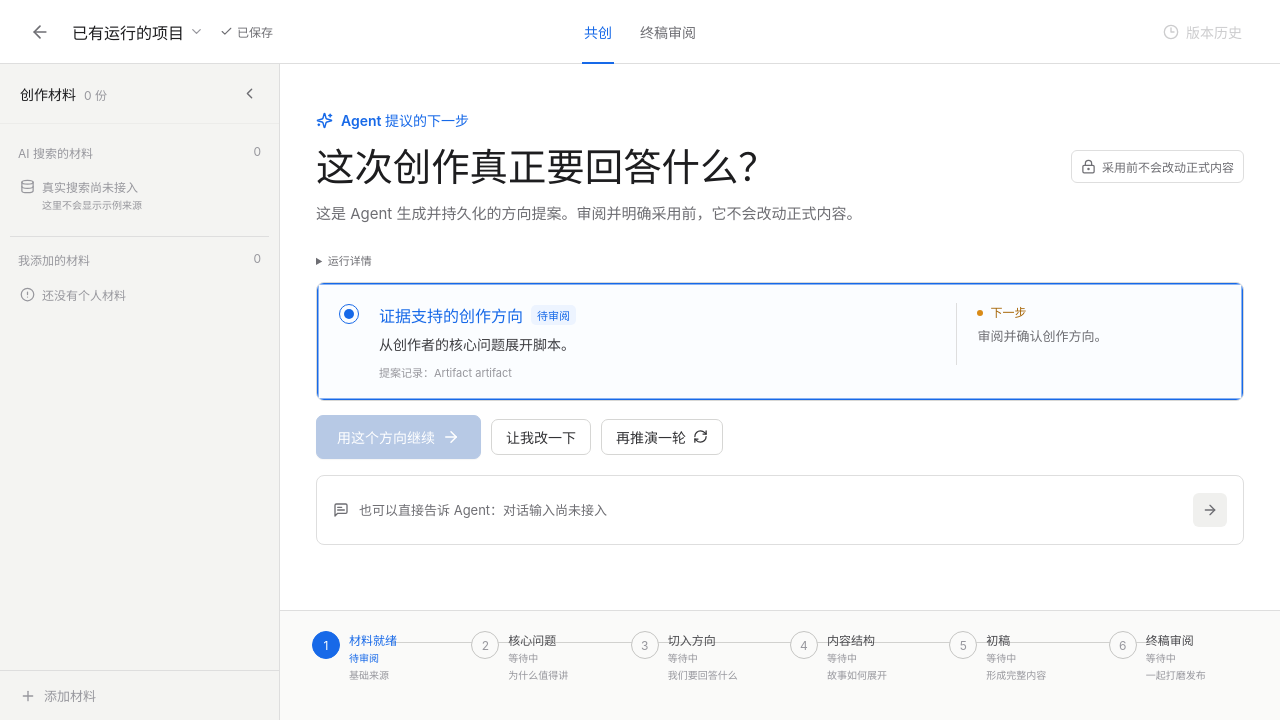
Scenario: Spark to Script runtime surface › releases the previous run subscription when switching to a project without a run
This screenshot has width=1280, height=720.
Expected: the heading "这次创作真正要回答什么？" is shown, [316, 144, 777, 190]
Click the button with aria-label "切换项目": (138, 32) [66, 14, 210, 48]
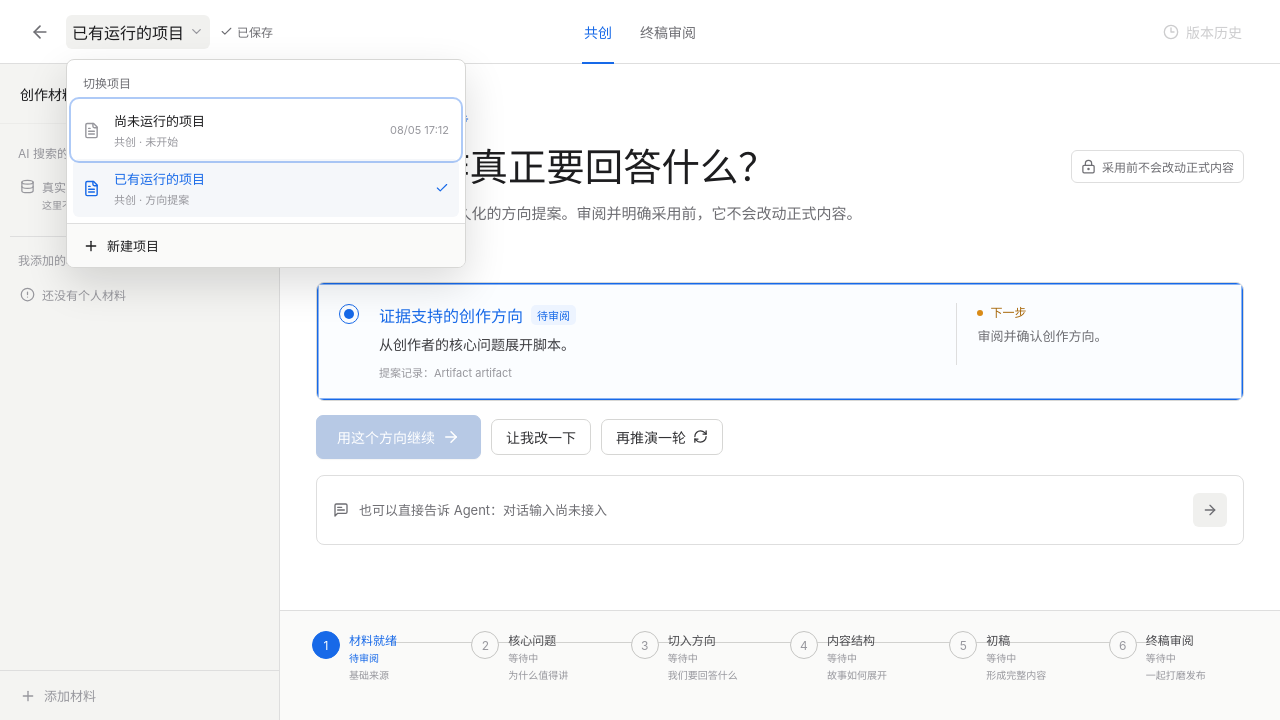
Click the button "尚未运行的项目 共创 · 未开始 08/05 17:12": (160, 121) [73, 101, 459, 159]
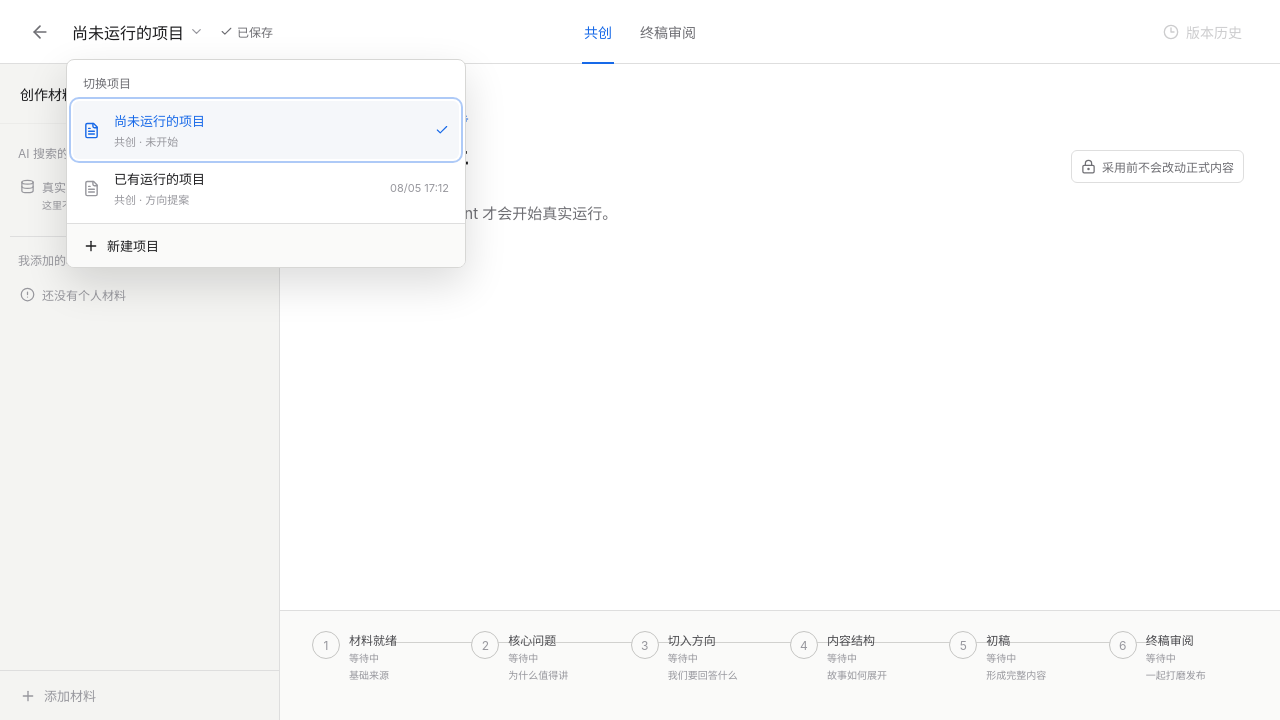
Expected: the heading "尚未运行" is shown, [316, 144, 470, 190]
